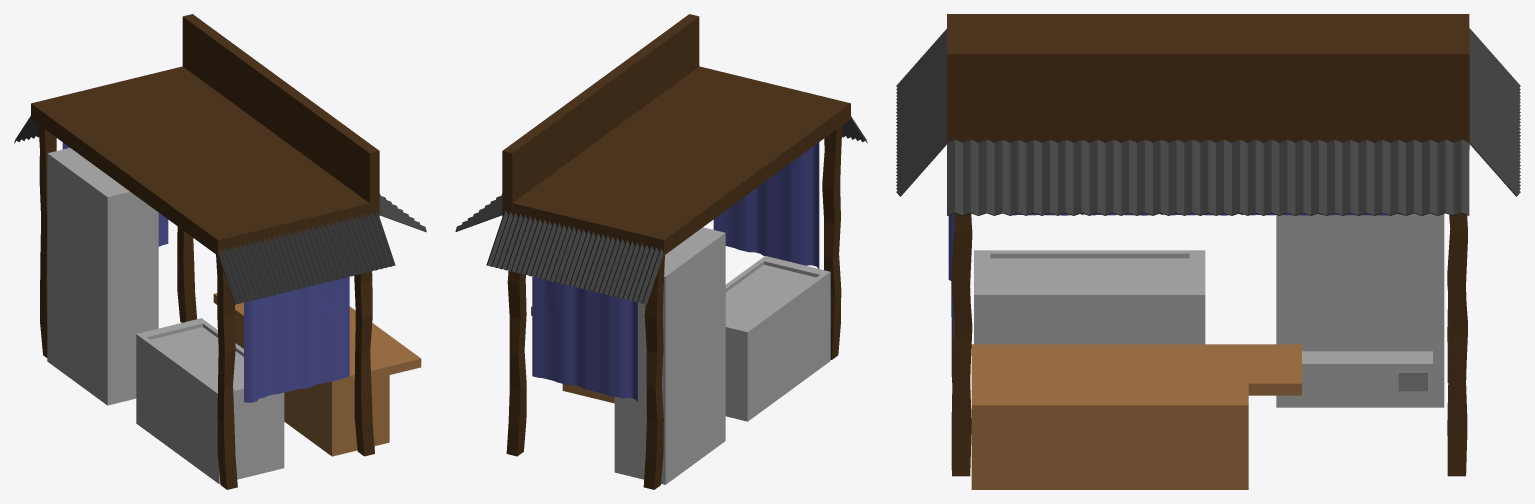
File: Shop1.fbx
3 views of the same model, side by side, from view 1: azimuth 30°, elevation 25°; view 2: azimuth 150°, elevation 25°; view 3: azimuth 270°, elevation 25° (orthographic). The views are drawn at different scales.
Visible parts, largest first — view 1: Cube.006; view 2: Cube.006; view 3: Cube.006.
Part boxes in pixels (x1,y1,x2,y2): Cube.006: [14, 14, 426, 489]; Cube.006: [455, 14, 867, 489]; Cube.006: [896, 14, 1520, 489].
Size of the model in its own units: 1048 by 1432 by 1913.
